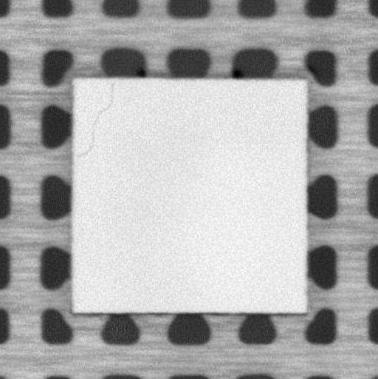DIE_CRACK: (77, 83, 115, 157)
